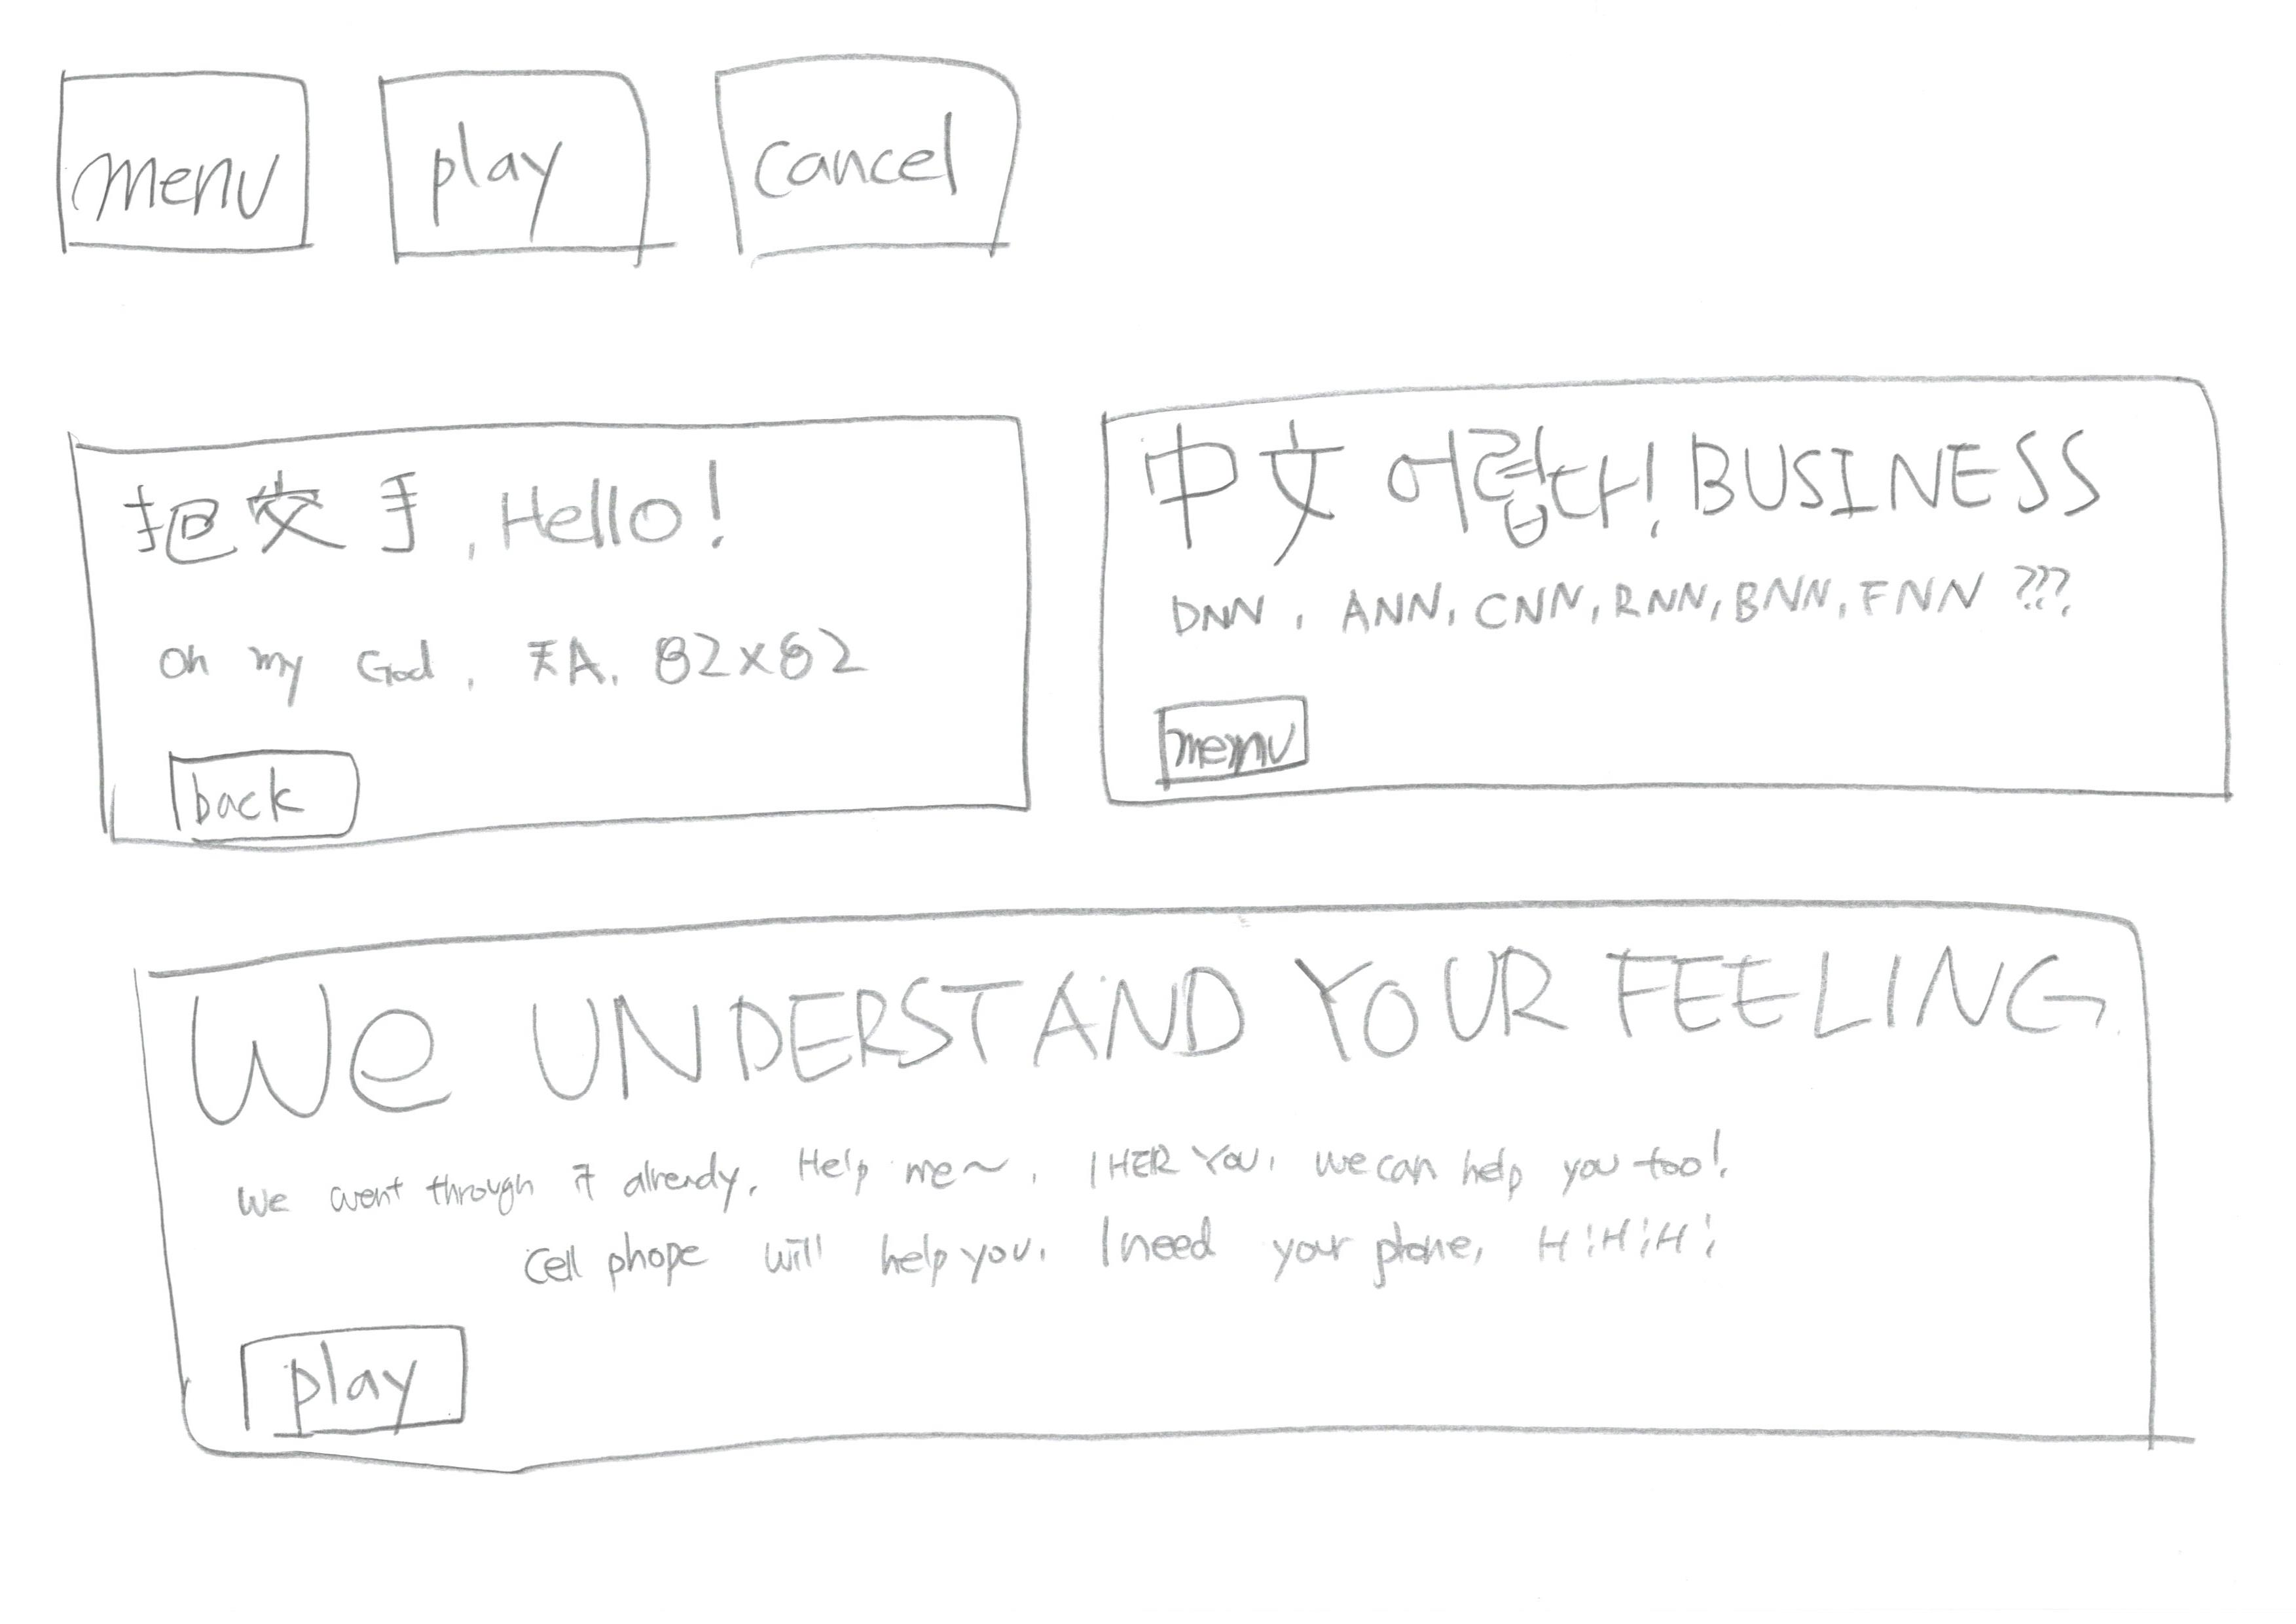back: (162, 728, 376, 863)
cancel: (694, 26, 1069, 274)
double: (1071, 353, 2296, 877), (46, 392, 1071, 865)
menu: (42, 46, 313, 276), (1122, 687, 1333, 789)
play: (359, 44, 677, 292), (216, 1309, 498, 1452)
row: (26, 858, 2294, 1454), (21, 350, 2296, 851), (35, 4, 2296, 311)
single: (83, 891, 2217, 1482)
small-title: (207, 949, 2052, 1093), (1150, 432, 2101, 545), (130, 464, 768, 587)
text: (541, 1146, 1783, 1325), (207, 1132, 1721, 1195), (1157, 562, 2099, 652), (155, 620, 909, 687)
